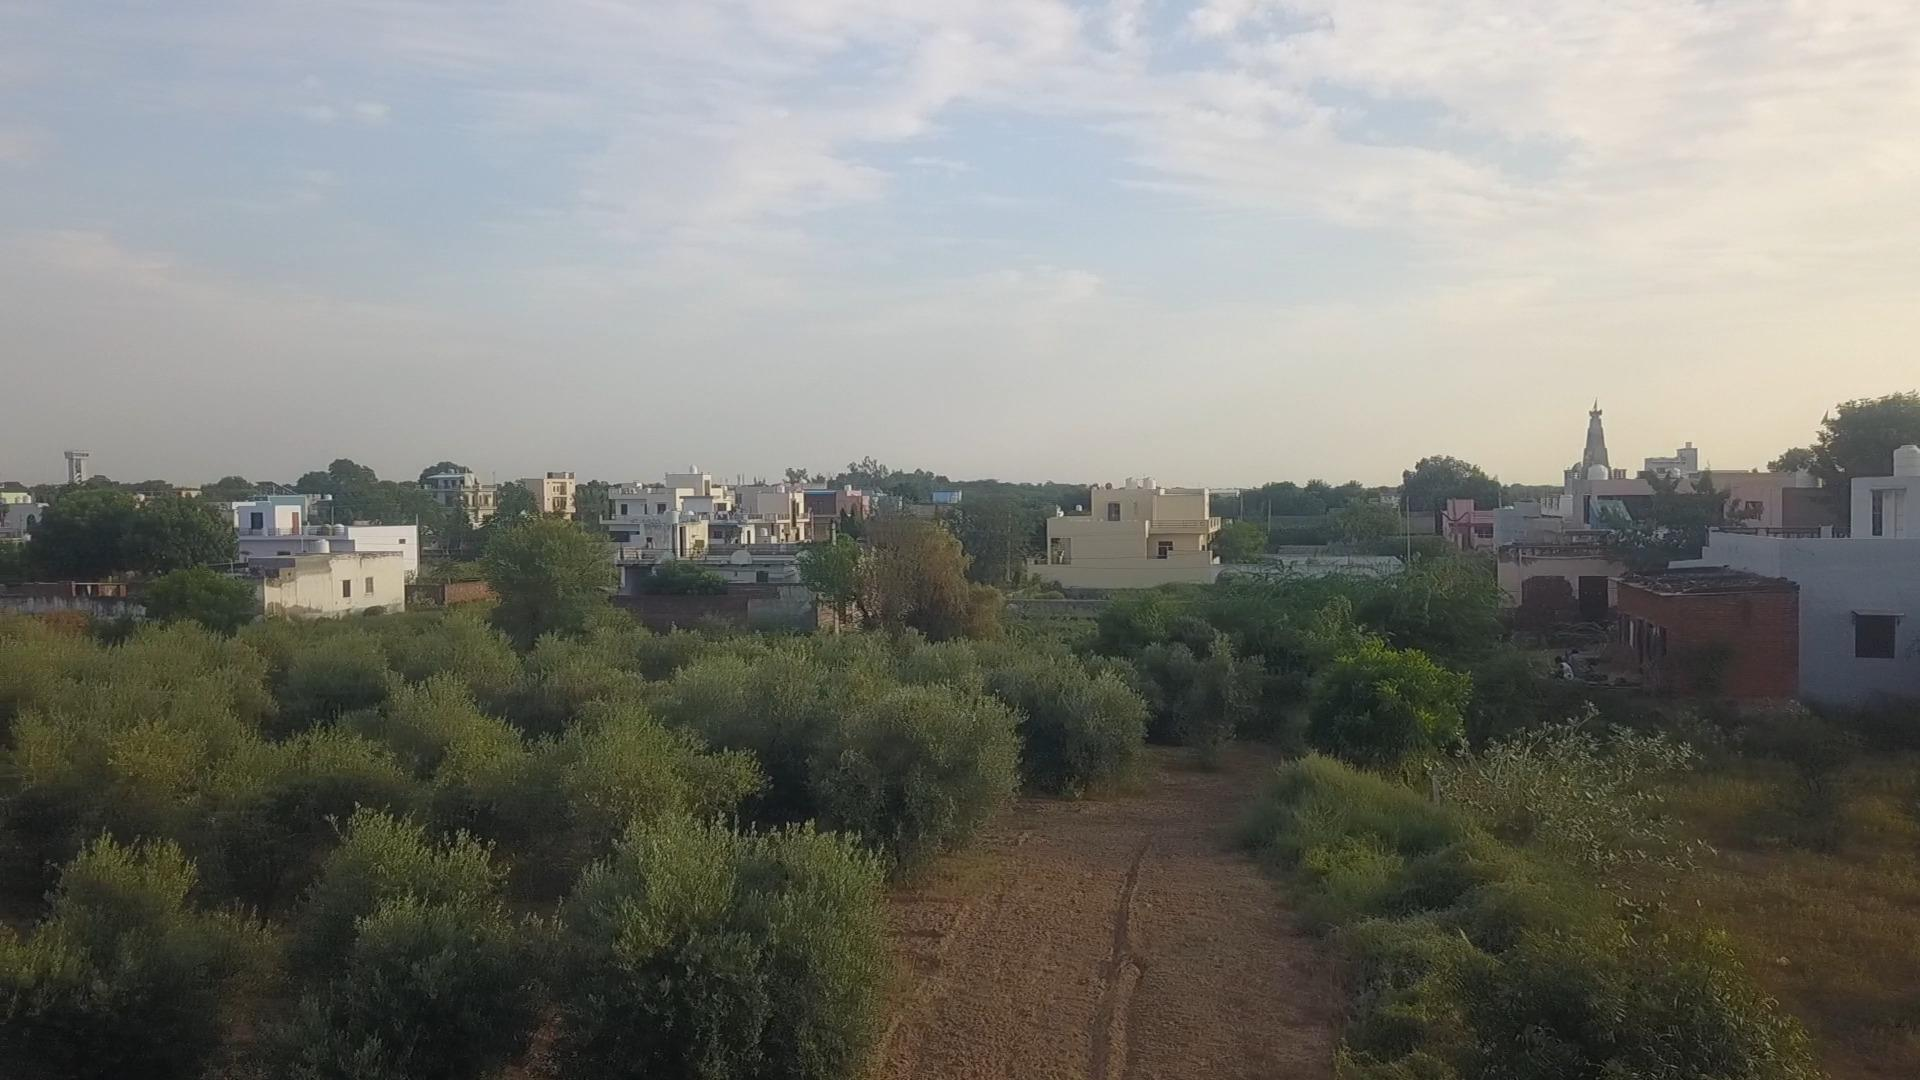canopy: (0, 613, 1149, 863), (0, 810, 886, 1079), (0, 679, 751, 909)
road: (879, 755, 1333, 1079)
